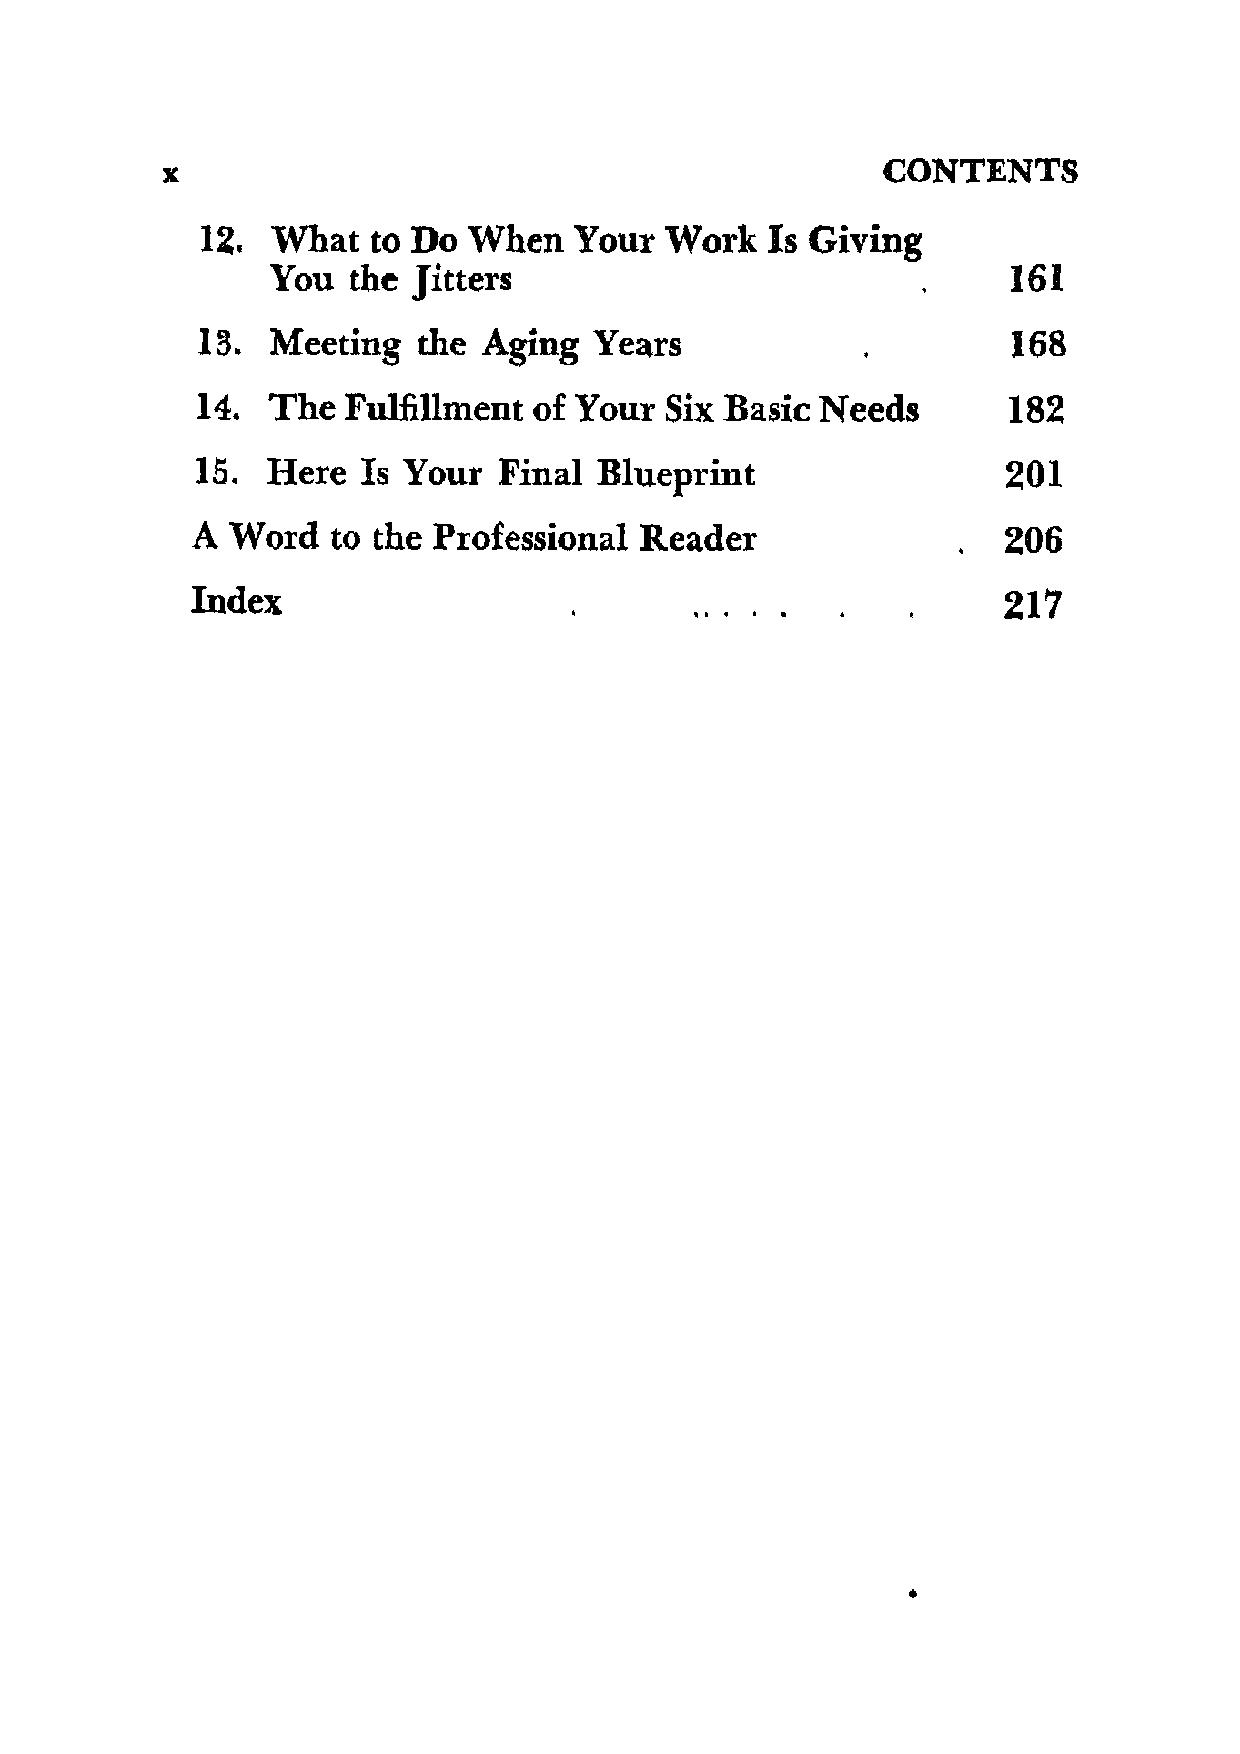TOC_chapter: (189, 203, 930, 305), (187, 374, 930, 439), (192, 443, 757, 502), (192, 514, 757, 566), (180, 317, 690, 369), (189, 573, 291, 623)
TOC_pagenumber: (994, 578, 1079, 625), (1006, 381, 1066, 433), (1008, 319, 1066, 372), (998, 514, 1066, 556), (1002, 450, 1068, 491), (1008, 258, 1070, 294)
chapter: (878, 144, 1079, 187)
